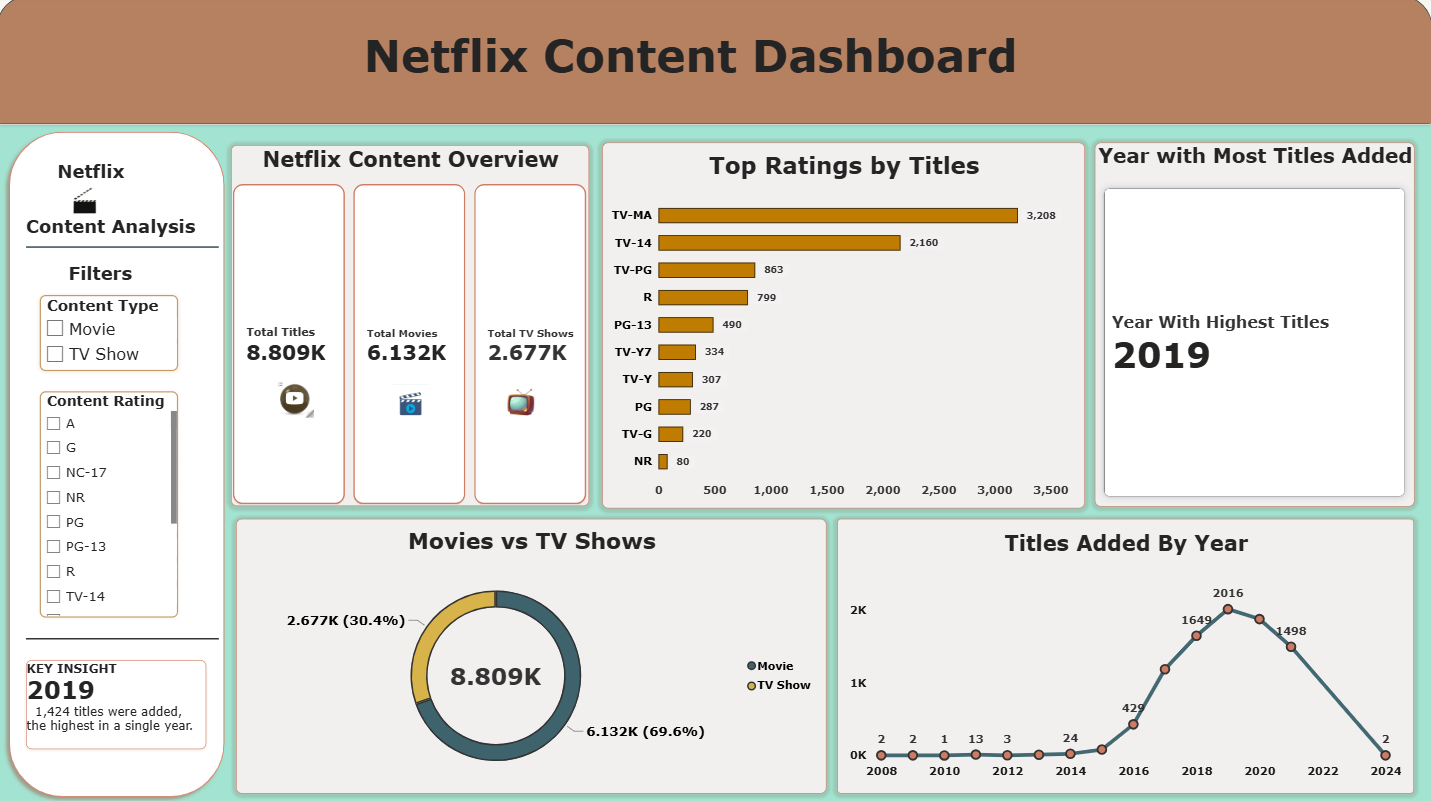

Layout of this report page (visuals, bound fields, positions):
{"tool":"powerbi","page":{"name":"Page 1","canvas":[1920,1080],"ordinal":0},"visuals":[{"type":"shape","box":[8.1,174.4,305.8,906.6],"z":0},{"type":"donutChart","title":"Movies vs TV Shows","fields":{"Y":["netflix_titles_cleaned.Total Titles"],"Category":["netflix_titles_cleaned.type"]},"box":[320.4,699.6,788.8,367],"z":1000},{"type":"clusteredBarChart","title":"Top Ratings by Titles","fields":{"Category":["netflix_titles_cleaned.rating"],"Y":["netflix_titles_cleaned.Total Titles"]},"box":[809.1,196.7,644.9,488.7],"z":2000},{"type":"lineChart","title":"Titles Added By Year","fields":{"Category":["netflix_titles_cleaned.date_added.Variation.Date Hierarchy.Year"],"Y":["Count(netflix_titles_cleaned.show_id)"]},"box":[1123.5,699.6,770.6,367],"z":3000},{"type":"shape","box":[0,0,1920.1,173.7],"z":4000},{"type":"textbox","box":[57.9,43.4,1739.1,130.3],"z":5000},{"type":"cardVisual","title":"Year with Most Titles Added","fields":{"Data":["netflix_titles_cleaned.Year With Highest Titles"]},"box":[1467.6,197.3,427.1,486.8],"z":6000},{"type":"textbox","box":[81.4,220.8,199.1,67],"z":7000},{"type":"image","box":[97.3,253.5,48.7,40.6],"z":8000},{"type":"textbox","box":[40.6,294,239.3,62.9],"z":9000},{"type":"slicer","fields":{"Values":["netflix_titles_cleaned.type"]},"box":[58.8,401.5,184.5,101.4],"z":10000},{"type":"slicer","fields":{"Values":["netflix_titles_cleaned.rating"]},"box":[58.8,529.3,184.5,302.2],"z":11000},{"type":"cardVisual","title":"Netflix Content Overview","fields":{"Data":["netflix_titles_cleaned.Total Titles","netflix_titles_cleaned.Total Movies","netflix_titles_cleaned.Total TV Shows"]},"box":[314.3,200.8,478.6,482.6],"z":12000},{"type":"image","box":[361,515.1,77.1,50.7],"z":13000},{"type":"image","box":[509,509,89.2,62.9],"z":14000},{"type":"image","box":[663.1,521.2,77.8,50.7],"z":15000},{"type":"shape","box":[40.6,273.8,257.5,125.7],"z":16000},{"type":"textbox","box":[97.3,356.9,119.6,42.6],"z":17000},{"type":"shape","box":[40.6,831.4,257.5,56.8],"z":18000},{"type":"textbox","box":[39.8,888.5,240.7,119.4],"z":19000}]}

Visuals, with their boxes in screenshot pixels (x1, y1, x2, y2), scaled from the page's 1920x1080 canvas onto the 1431x801 screenshot:
shape: bbox=(6, 129, 234, 800)
"Movies vs TV Shows" donutChart: bbox=(239, 519, 827, 791)
"Top Ratings by Titles" clusteredBarChart: bbox=(603, 146, 1084, 508)
"Titles Added By Year" lineChart: bbox=(837, 519, 1412, 791)
shape: bbox=(0, 0, 1430, 129)
textbox: bbox=(43, 32, 1339, 129)
"Year with Most Titles Added" cardVisual: bbox=(1094, 146, 1412, 507)
textbox: bbox=(61, 164, 209, 213)
image: bbox=(73, 188, 109, 218)
textbox: bbox=(30, 218, 209, 265)
slicer - netflix_titles_cleaned.type: bbox=(44, 298, 181, 373)
slicer - netflix_titles_cleaned.rating: bbox=(44, 393, 181, 617)
"Netflix Content Overview" cardVisual: bbox=(234, 149, 591, 507)
image: bbox=(269, 382, 327, 420)
image: bbox=(379, 378, 446, 424)
image: bbox=(494, 387, 552, 424)
shape: bbox=(30, 203, 222, 296)
textbox: bbox=(73, 265, 162, 296)
shape: bbox=(30, 617, 222, 659)
textbox: bbox=(30, 659, 209, 748)
